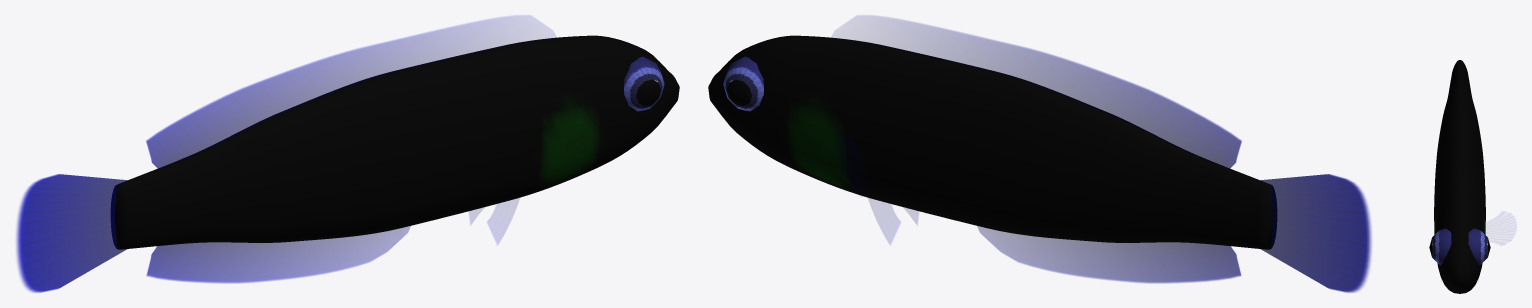
Rendered from dottyback.glb.
The picture shows the model from 3 angles, left to right: view 1: azimuth 30°, elevation 25°; view 2: azimuth 150°, elevation 25°; view 3: azimuth 270°, elevation 25°; orthographic projection. The views are drawn at different scales.
Parts seen in each view (by area): view 1: Body, FinDorsal, FinCaudal, FinAnal, EyeR, FinPelvicR; view 2: Body, FinDorsal, FinCaudal, FinAnal, EyeL, FinPelvicL; view 3: Body, EyeL, EyeR.
Part boxes in pixels (x1,y1,x2,y2): Body: (111, 35, 679, 249); FinDorsal: (146, 16, 556, 168); FinCaudal: (16, 174, 128, 292); FinAnal: (146, 226, 410, 283); EyeR: (624, 56, 664, 111); FinPelvicR: (487, 197, 519, 244); Body: (708, 35, 1276, 249); FinDorsal: (831, 16, 1241, 168); FinCaudal: (1259, 174, 1371, 292); FinAnal: (977, 226, 1241, 283); EyeL: (723, 56, 763, 111); FinPelvicL: (868, 197, 900, 244); Body: (1434, 60, 1485, 293); EyeL: (1468, 228, 1490, 265); EyeR: (1429, 228, 1451, 265).
Size of the model in its own units: 1 by 0.3172 by 0.2143.
Materials: 4 (3 with a texture image).
